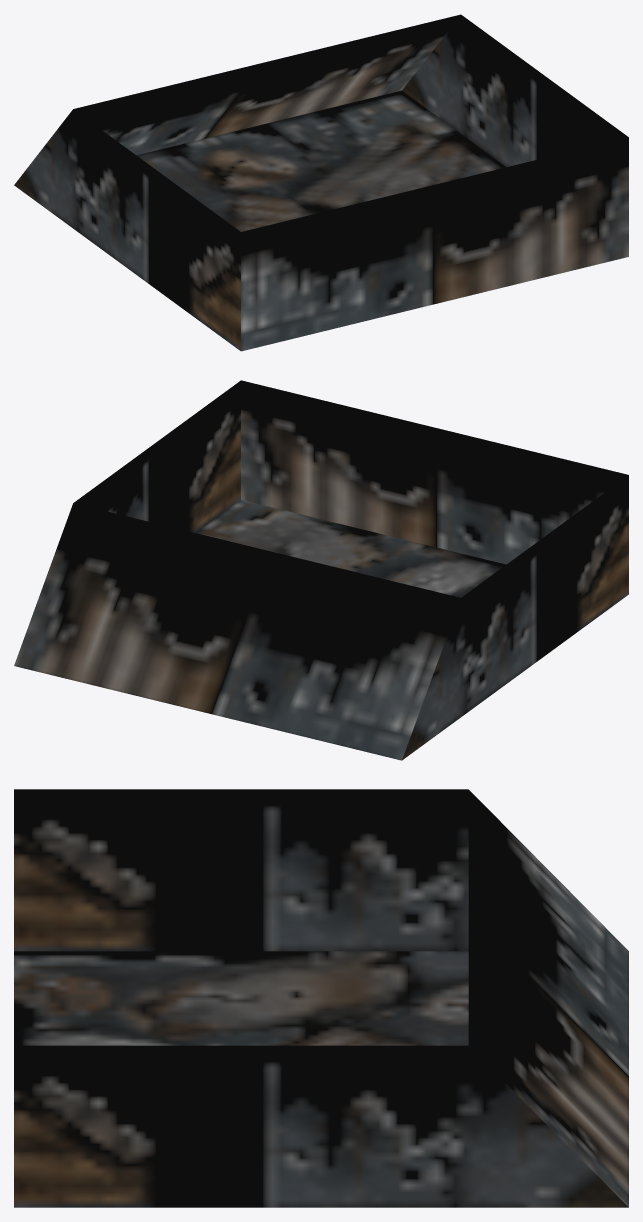
The model's file is crashshanty2_dam.glb.
3 renders of one model, top to bottom at view 1: azimuth 30°, elevation 25°; view 2: azimuth 150°, elevation 25°; view 3: azimuth 270°, elevation 25°, orthographic. The views are drawn at different scales.
Parts seen in each view (by area): view 1: CrashShanty; view 2: CrashShanty; view 3: CrashShanty.
Part boxes in pixels (x1,y1,x2,y2): CrashShanty: [14, 14, 628, 351]; CrashShanty: [14, 380, 628, 760]; CrashShanty: [14, 789, 628, 1207].
Size of the model in its own units: 4.98 by 1.46 by 5.05.
Materials: 1 (1 with a texture image).
